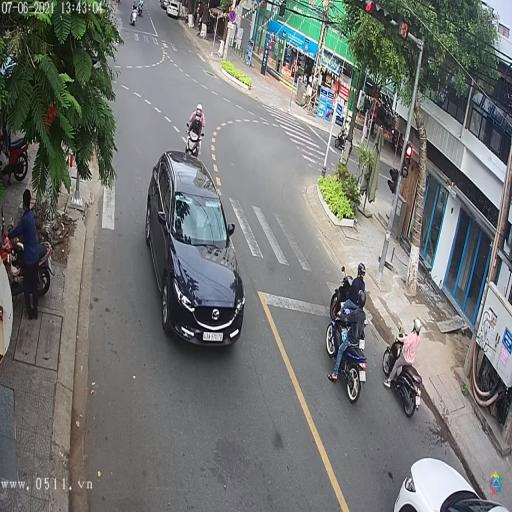car: (144, 149, 247, 348)
